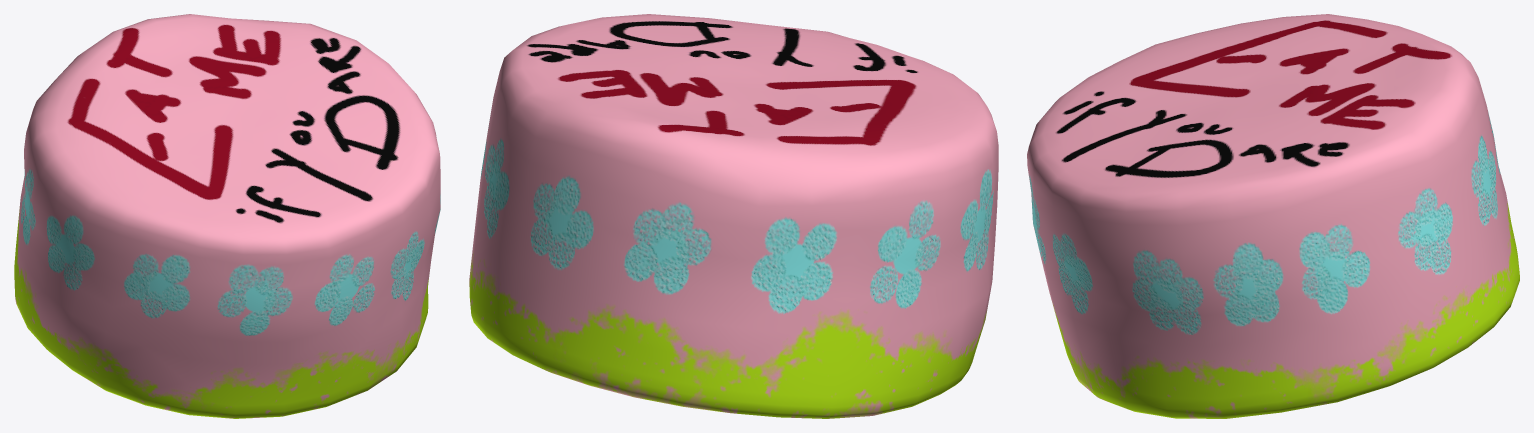
Rendered from cake 1.fbx.
The picture shows the model from 3 angles, left to right: view 1: azimuth 30°, elevation 25°; view 2: azimuth 150°, elevation 25°; view 3: azimuth 270°, elevation 25°; orthographic projection. The views are drawn at different scales.
Visible parts, largest first — view 1: node_id3; view 2: node_id3; view 3: node_id3.
Part boxes in pixels (x1=…): node_id3: x1=14, y1=14, x2=440, y2=418; node_id3: x1=469, y1=14, x2=998, y2=418; node_id3: x1=1027, y1=14, x2=1519, y2=418.
Bounding box in the file's own units: 0.5126 × 0.3539 × 0.5362.
Materials: 1 (1 with a texture image).
